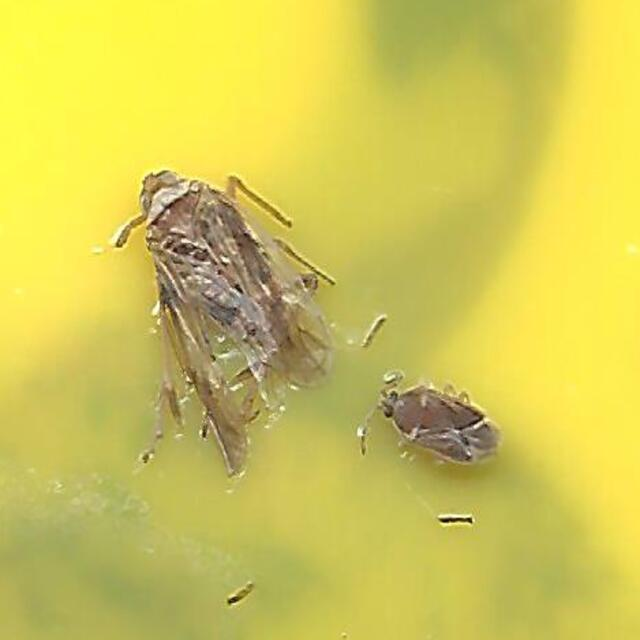Hemiptera: (136, 161, 338, 474)
Plecoptera: (358, 371, 504, 479)
